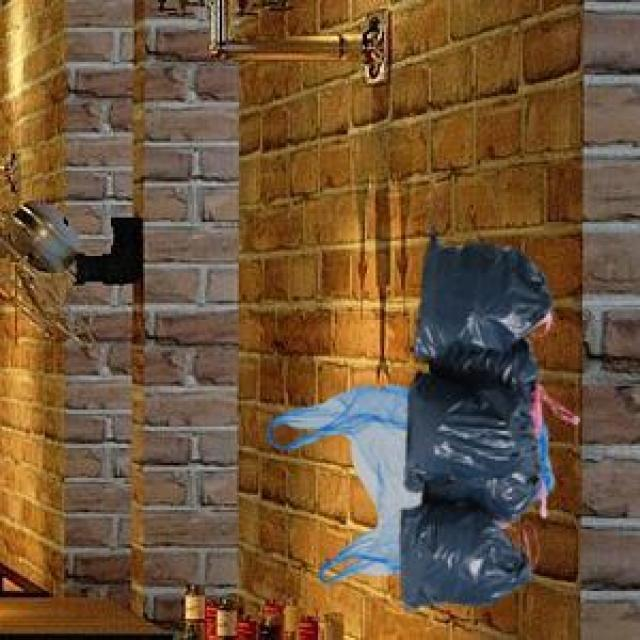miscellaneous trash: (397, 222, 548, 606)
